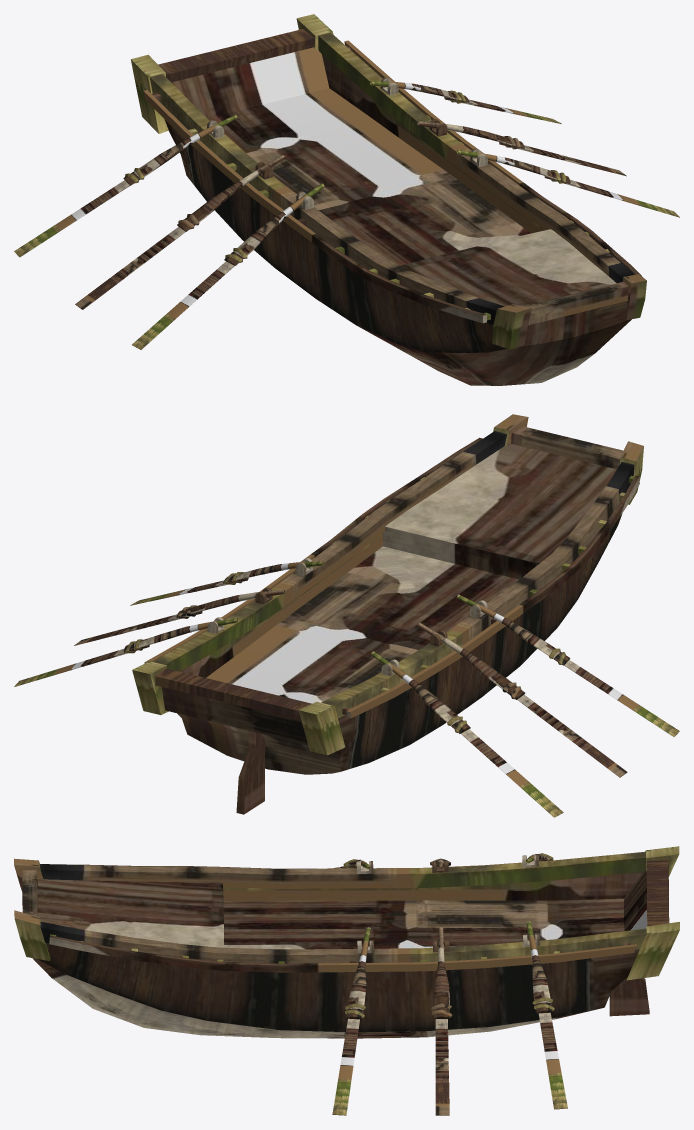
The model's file is 279-junkozosen.glb.
3 views of the same model, one above another, from view 1: azimuth 30°, elevation 25°; view 2: azimuth 150°, elevation 25°; view 3: azimuth 270°, elevation 25° (orthographic). The views are drawn at different scales.
Bounding box in the file's own units: 5.93 × 1.55 × 6.73.
Materials: 1 (1 with a texture image).
